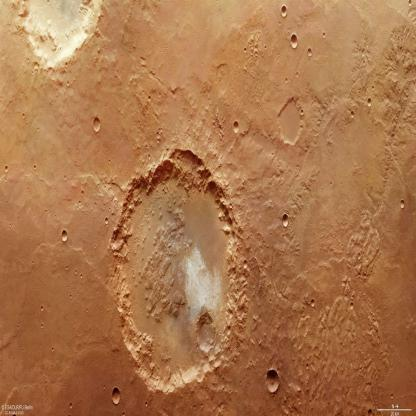craters: (96, 136, 262, 392), (1, 0, 101, 95), (268, 87, 310, 152), (191, 305, 221, 363), (260, 361, 292, 399), (57, 209, 72, 248), (279, 206, 295, 241), (108, 384, 128, 411), (228, 116, 244, 144), (284, 31, 304, 51), (89, 111, 106, 134), (279, 0, 294, 19), (306, 44, 318, 60)
